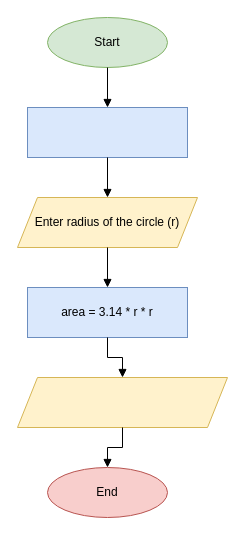
Image size: 245x535. Some labels were removed from this diagram. The shapes that lost their labels are listed below. From the top down, each one's centre as x and y in pixels, then its label:
point 107,132: Declare int r, double area
point 122,402: Display "Area of Circle:" + area
